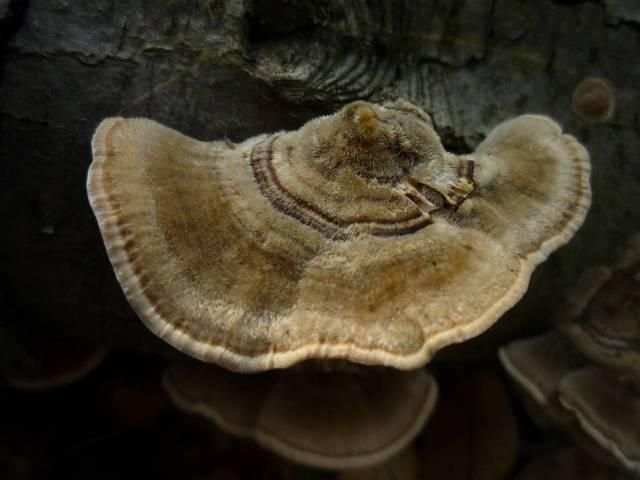Non-edible Mushroom: (84, 95, 593, 374)
